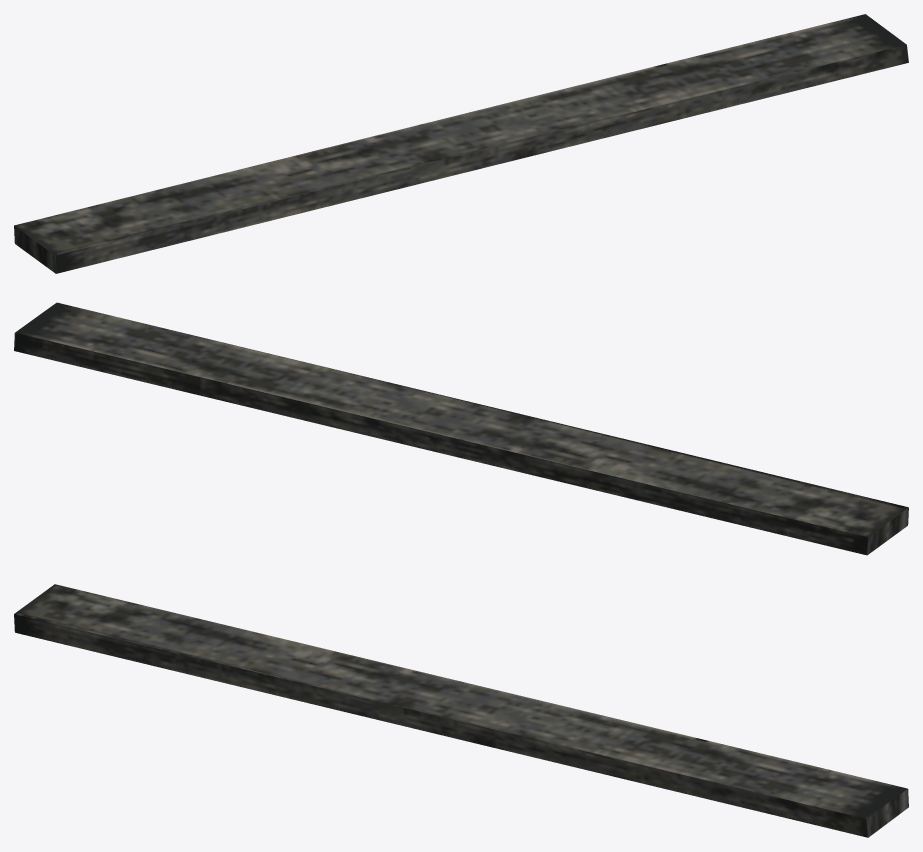
Rendered from SM_EC_Fence_Part_06.fbx.
3 renders of one model, top to bottom at view 1: azimuth 30°, elevation 25°; view 2: azimuth 150°, elevation 25°; view 3: azimuth 330°, elevation 25°, orthographic.
Parts seen in each view (by area): view 1: SM_EC_Fence_Part_06; view 2: SM_EC_Fence_Part_06; view 3: SM_EC_Fence_Part_06.
Part boxes in pixels (x1,y1,x2,y2): SM_EC_Fence_Part_06: [14, 14, 908, 273]; SM_EC_Fence_Part_06: [14, 302, 908, 555]; SM_EC_Fence_Part_06: [14, 584, 908, 837].
Size of the model in its own units: 3.22 by 0.2926 by 0.0667.
